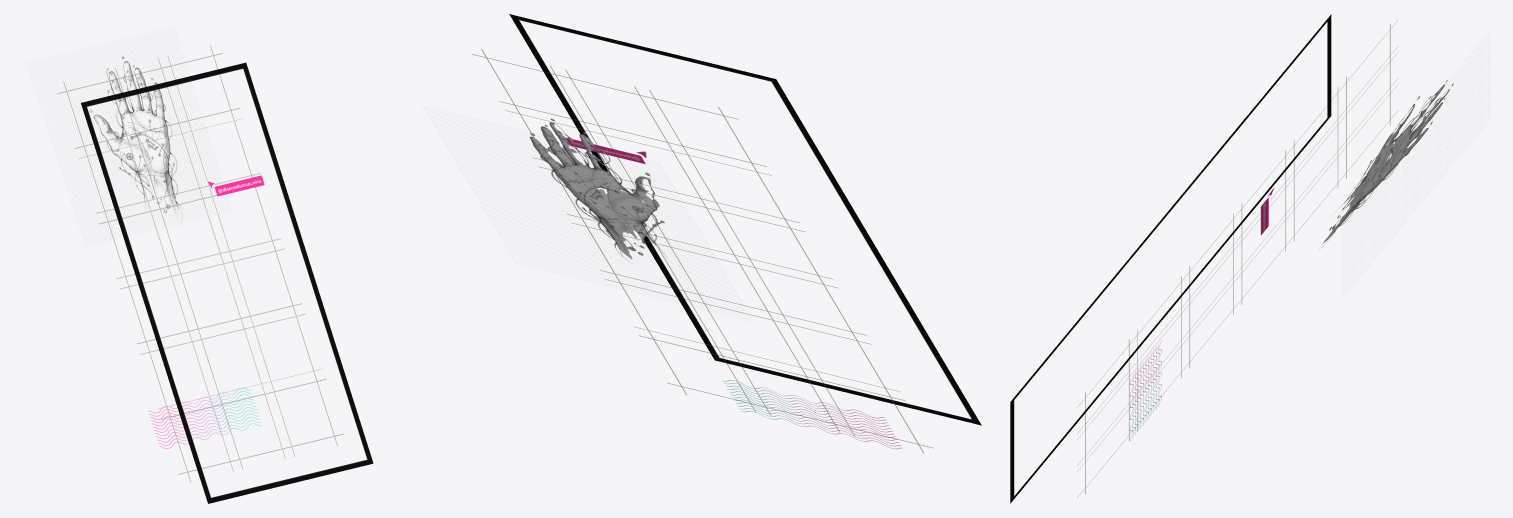
Rendered from proyecto_01blend.glb.
3 views of the same model, side by side, from view 1: azimuth 30°, elevation 25°; view 2: azimuth 150°, elevation 25°; view 3: azimuth 270°, elevation 25° (orthographic). The views are drawn at different scales.
Visible parts, largest first — view 1: Plano1, Plano5, Plano3, Plano4, Plano2; view 2: Plano5, Plano1, Plano3, Plano4; view 3: Plano1, Plano5, Plano3, Plano4.
Part boxes in pixels (x1,y1,x2,y2): Plano1: (81, 62, 373, 503); Plano5: (89, 56, 182, 225); Plano3: (57, 45, 343, 481); Plano4: (148, 388, 262, 448); Plano2: (207, 175, 264, 196); Plano5: (529, 118, 670, 263); Plano1: (509, 14, 981, 425); Plano3: (472, 49, 933, 452); Plano4: (722, 380, 902, 448); Plano1: (1010, 14, 1331, 503); Plano5: (1320, 80, 1453, 248); Plano3: (1077, 20, 1397, 496); Plano4: (1130, 341, 1161, 440).
Bounding box in the file's own units: 3.6 × 6.4 × 7.3.
6 materials, 6 textured.
